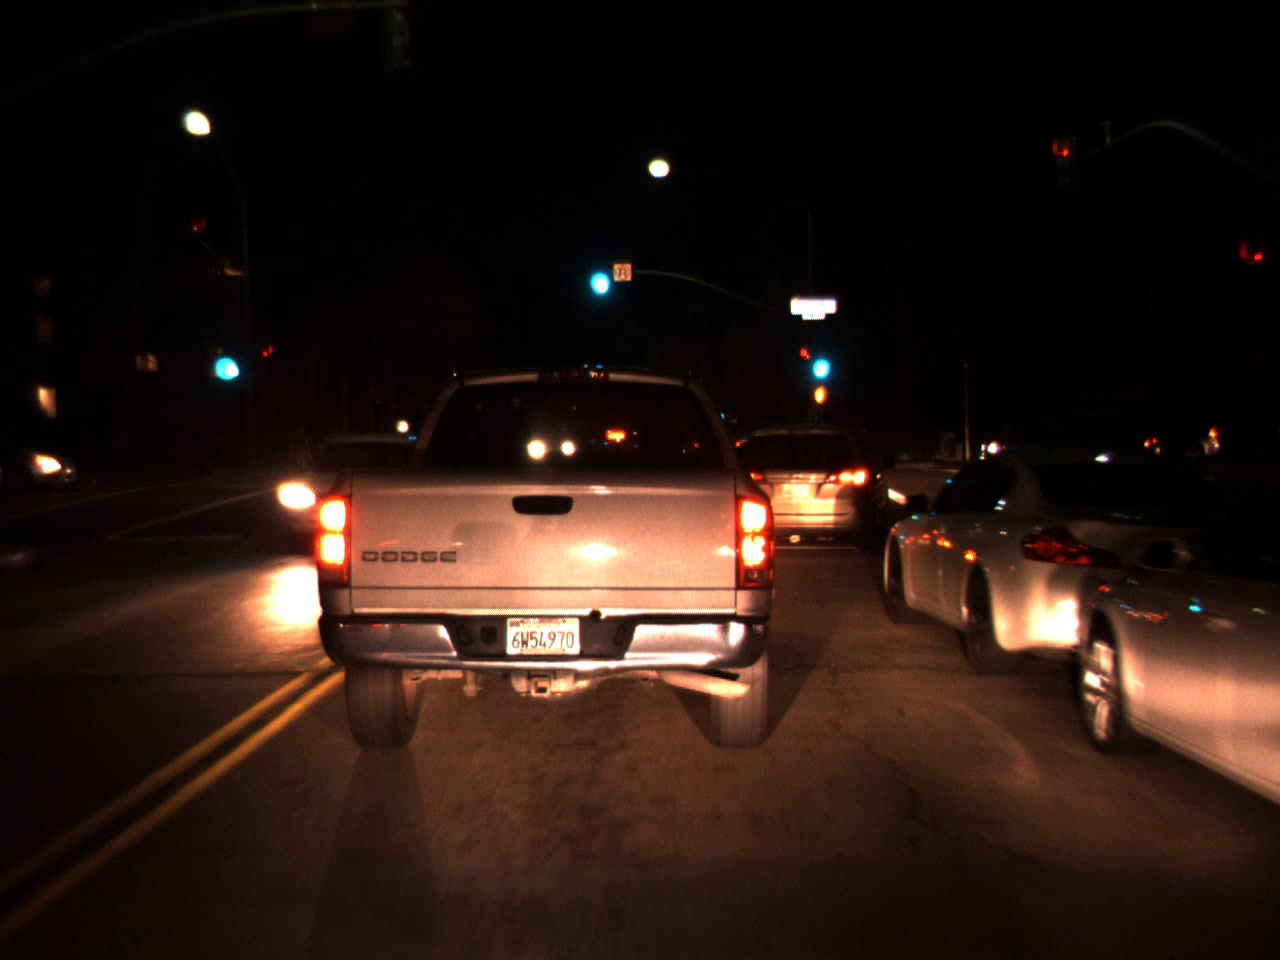go: (206, 329, 242, 389), (582, 244, 614, 304), (806, 333, 833, 387)
